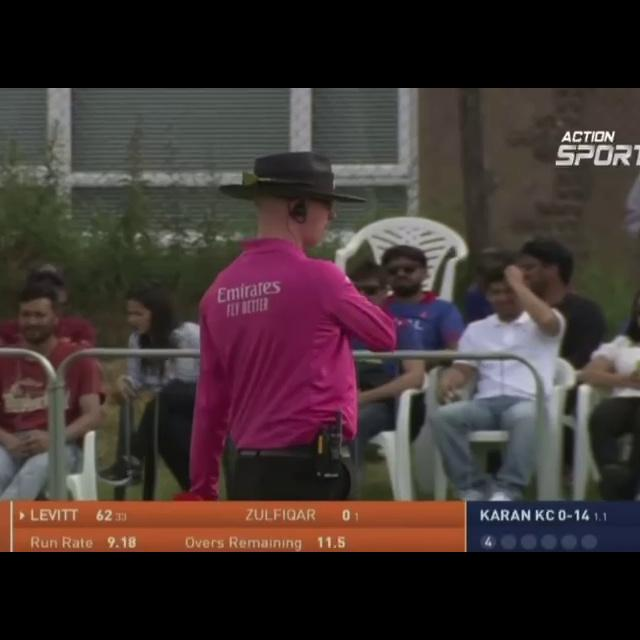umpire: (133, 110, 486, 498)
